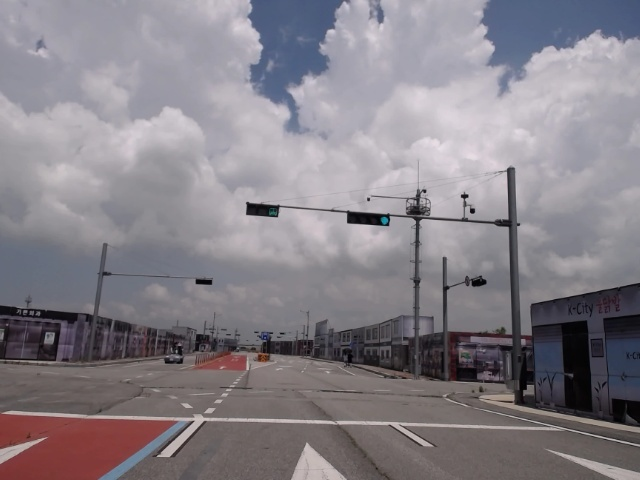straight_green_4: (345, 210, 389, 227)
